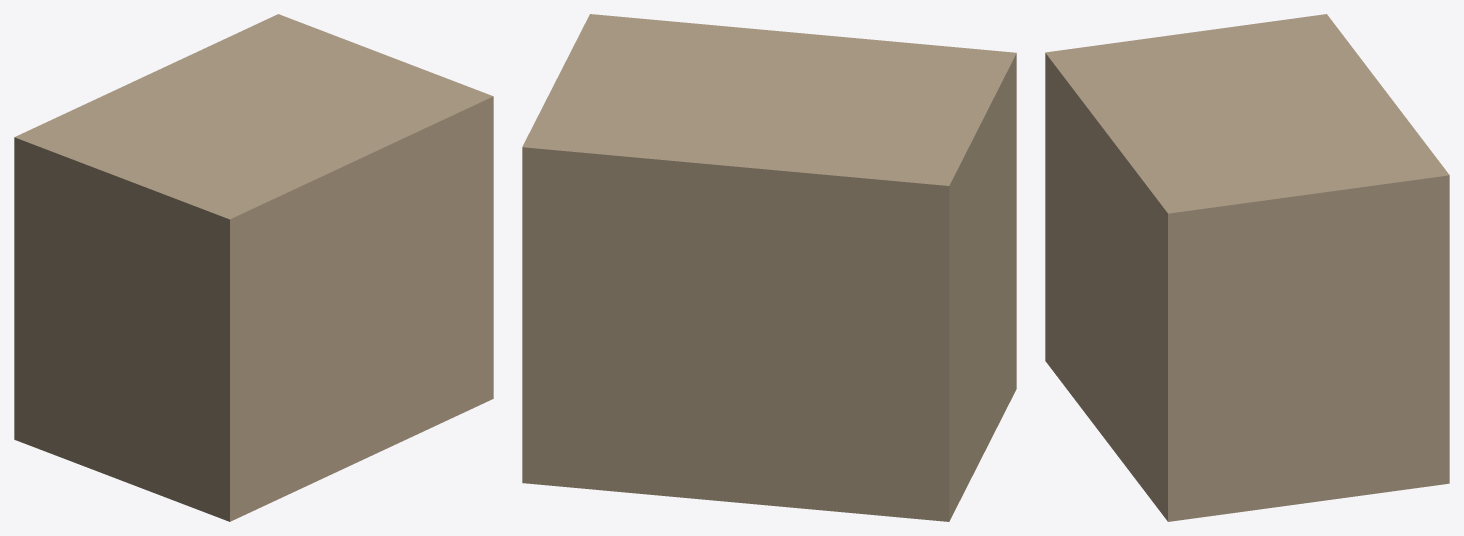
File: bld_108162012.dae
3 views of the same model, side by side, from view 1: azimuth 30°, elevation 25°; view 2: azimuth 150°, elevation 25°; view 3: azimuth 270°, elevation 25° (orthographic). The views are drawn at different scales.
Visible parts, largest first — view 1: bld_108162012; view 2: bld_108162012; view 3: bld_108162012.
Part boxes in pixels (x1,y1,x2,y2): bld_108162012: [14, 14, 493, 521]; bld_108162012: [522, 14, 1016, 521]; bld_108162012: [1045, 14, 1449, 521].
Bounding box in the file's own units: 11.11 × 9.51 × 8.
